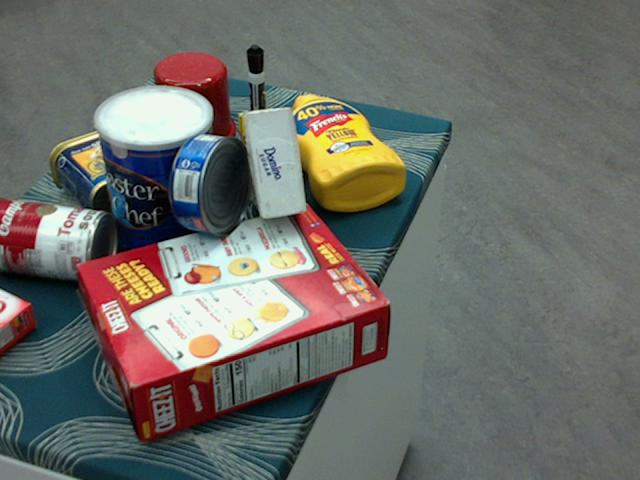cracker_box: (78, 203, 389, 440)
gelatin_box: (0, 287, 38, 356)
large_marker: (246, 44, 266, 148)
master_chef_can: (94, 87, 218, 272)
mug: (152, 53, 235, 152)
mustard_bottle: (282, 93, 406, 211)
potted_meat_can: (49, 122, 177, 221)
sugar_box: (235, 108, 305, 219)
tomato_soup_can: (0, 194, 116, 283)
tuna_fish_can: (168, 132, 252, 234)
